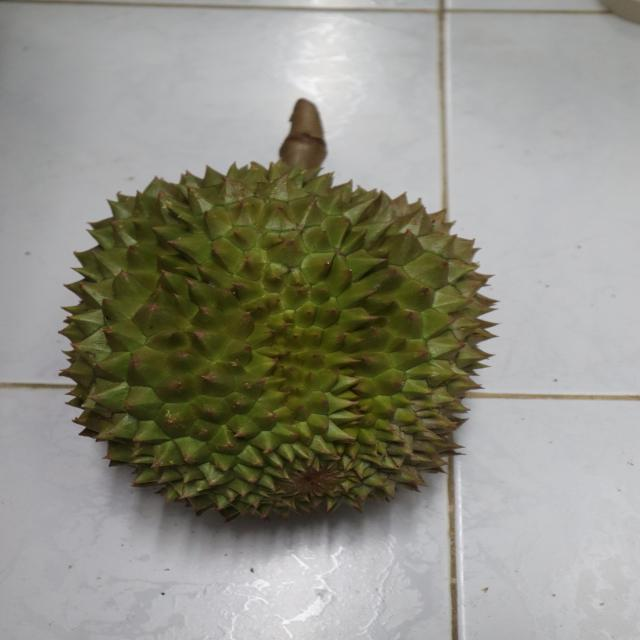immature: (55, 161, 500, 517)
